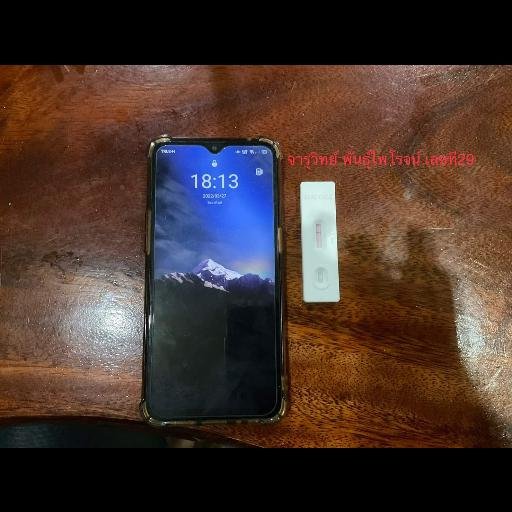Neg: (300, 180, 338, 302)
